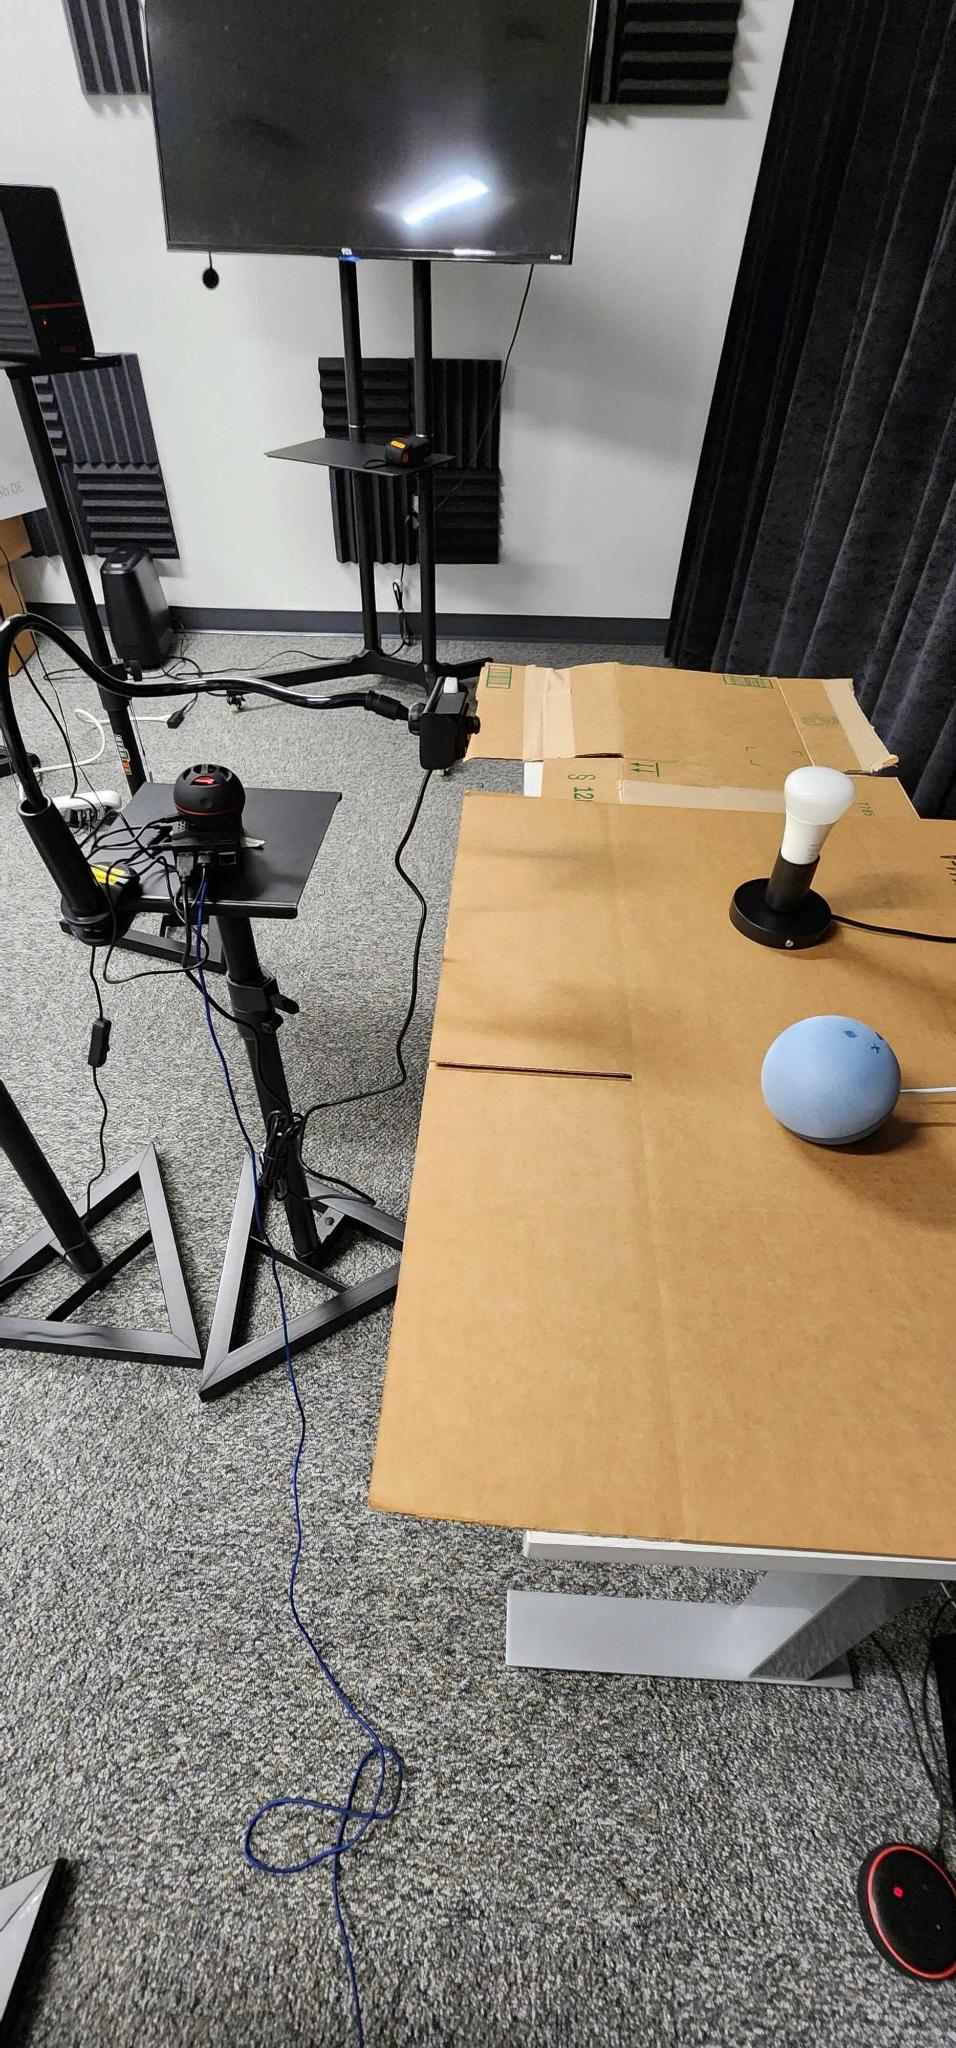Fan: (778, 765, 855, 863)
